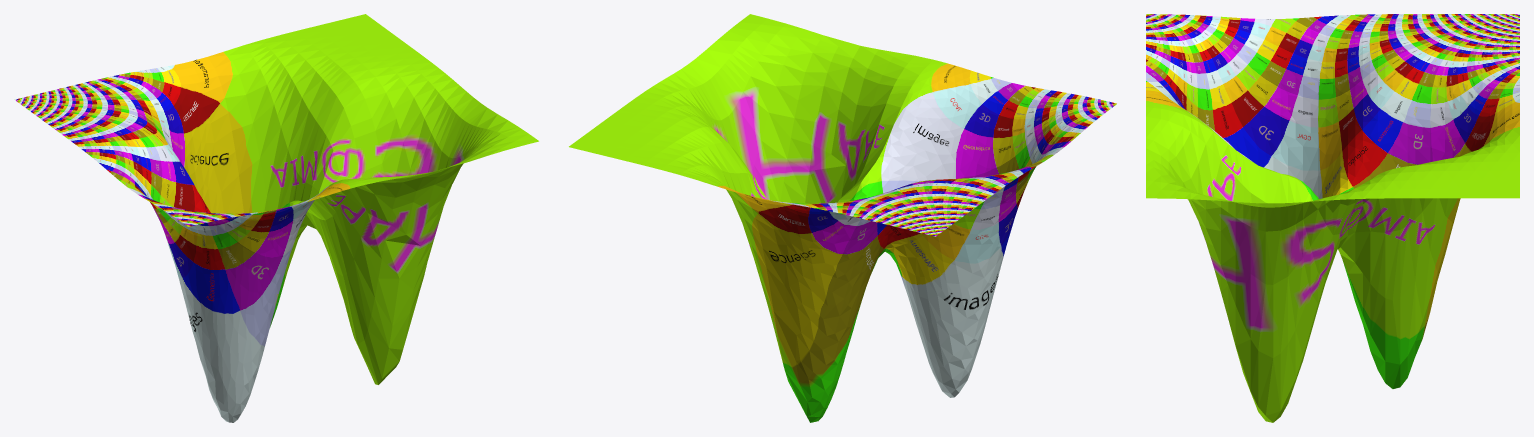
Rendered from test_three_peaks_lscm_2pts.obj.
3 renders of one model, left to right at view 1: azimuth 30°, elevation 25°; view 2: azimuth 150°, elevation 25°; view 3: azimuth 270°, elevation 25°, orthographic. The views are drawn at different scales.
Size of the model in its own units: 20 by 14.33 by 17.14.
Materials: 1 (1 with a texture image).
